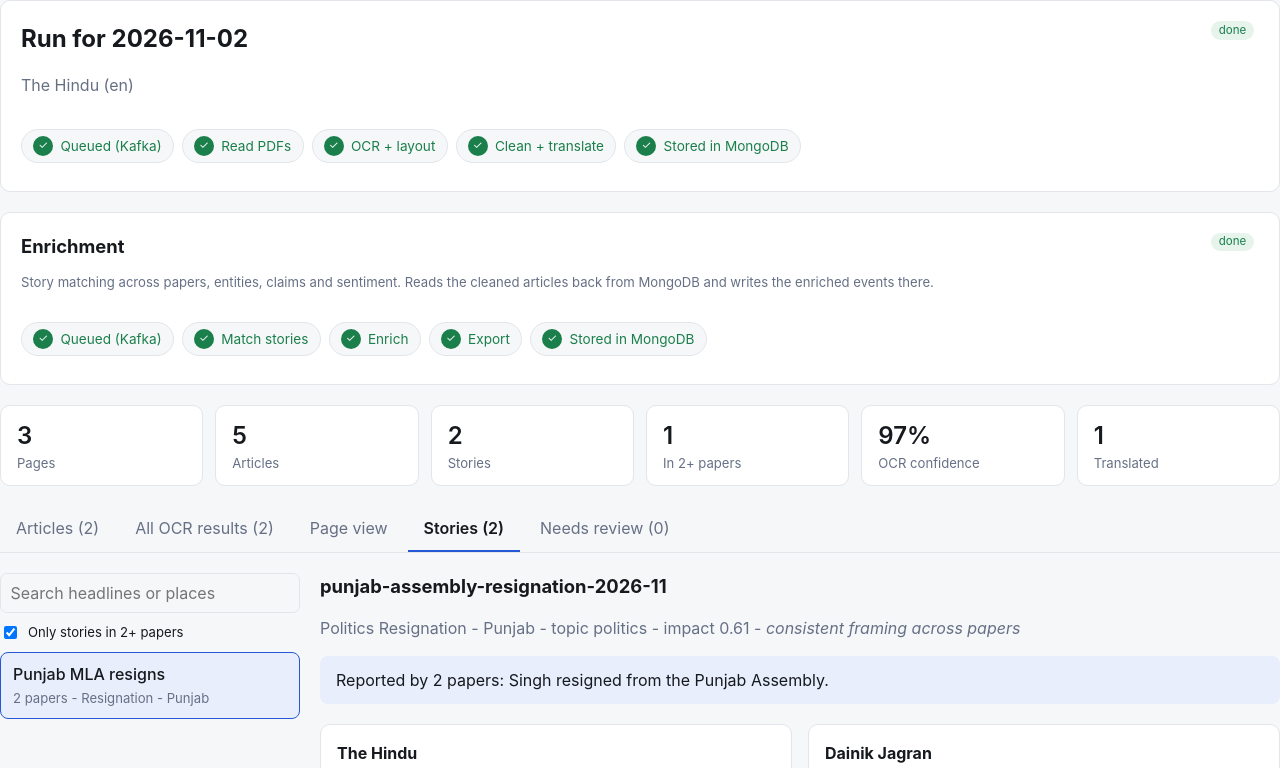
Test: RunPage › lists every OCR result in order, including items the clean step dropped
Click the tab "All OCR results (2)".
click(204, 529)  # box [119, 506, 290, 552]
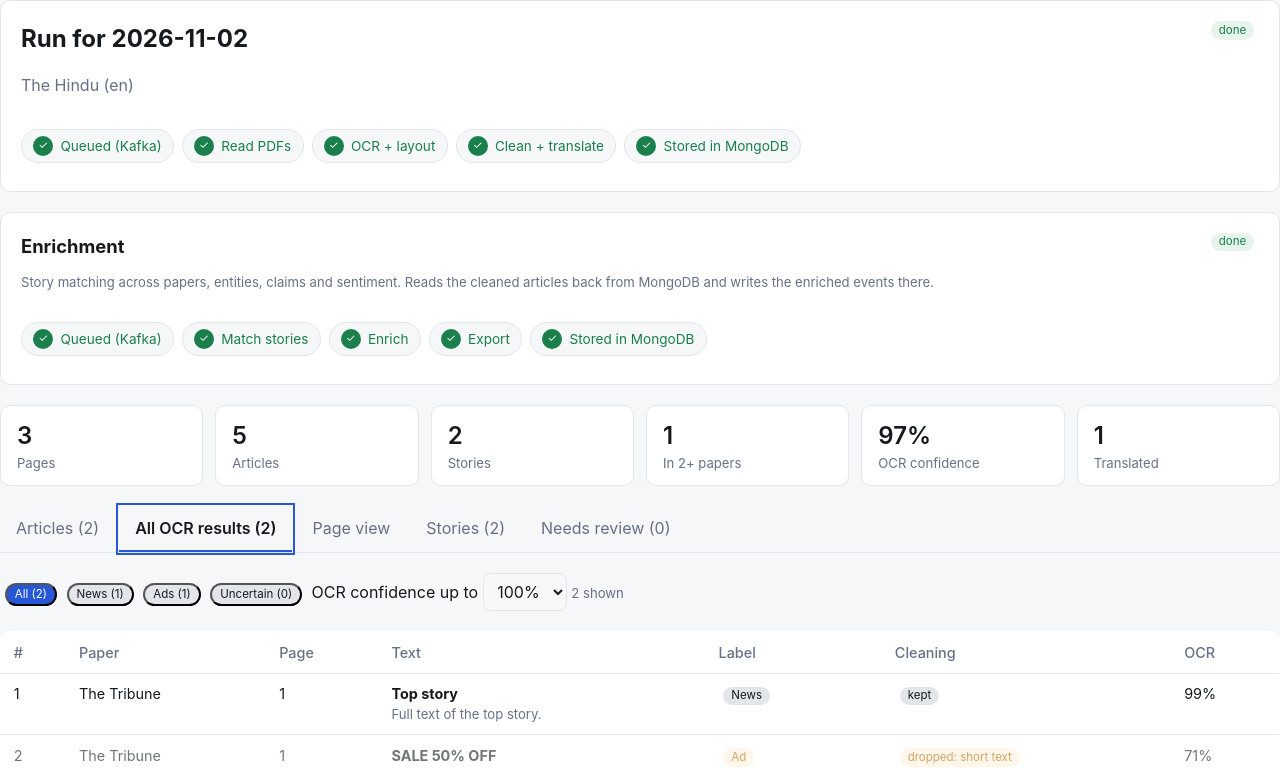
Check: the 2nd row shows "Top story", box [391, 685, 458, 702]
Check: the 3rd row shows "SALE 50% OFF", box [391, 747, 496, 764]
Check: the 3rd row shows "71%", box [1184, 747, 1212, 764]
Click the button "Ads (1)".
click(172, 594)  # box [143, 583, 201, 606]
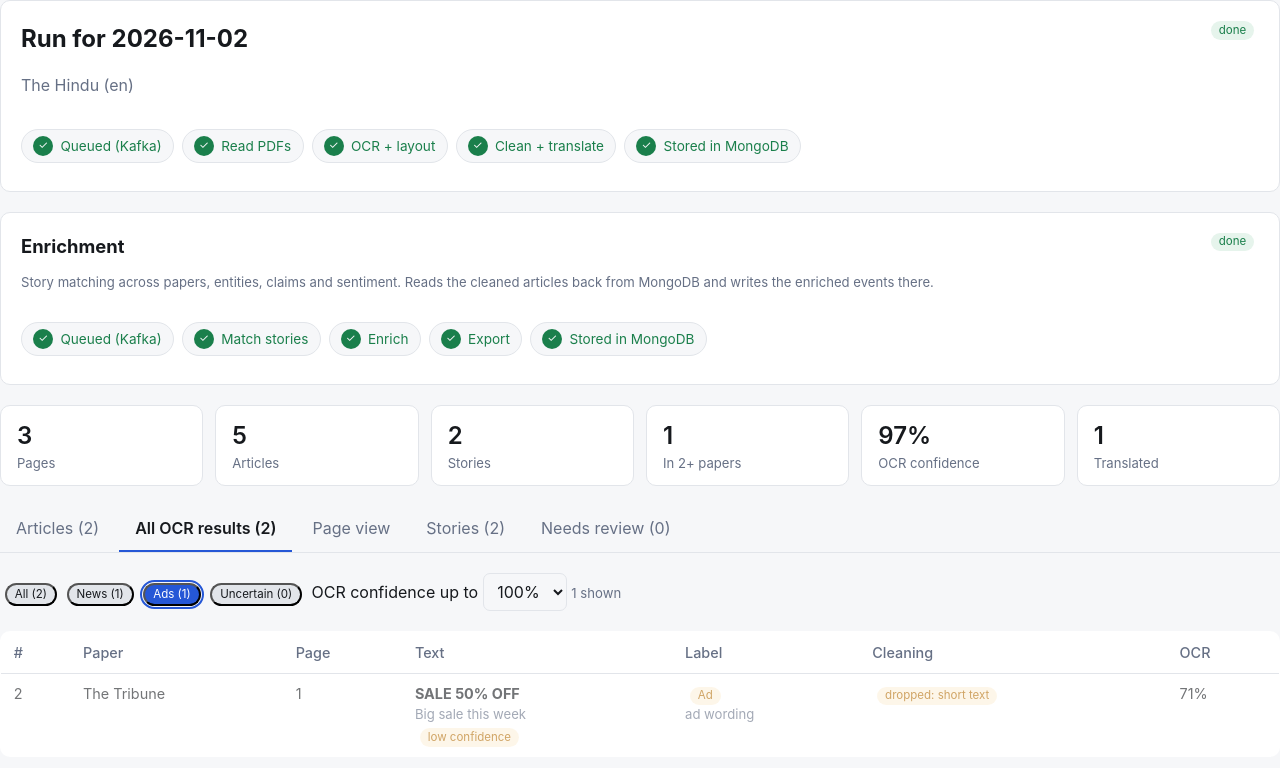
Check: the table named "All OCR results" shows "Ad", box [698, 688, 713, 702]
Check: the number of rows is 2, box [0, 631, 1279, 673]; [0, 673, 1279, 757]
